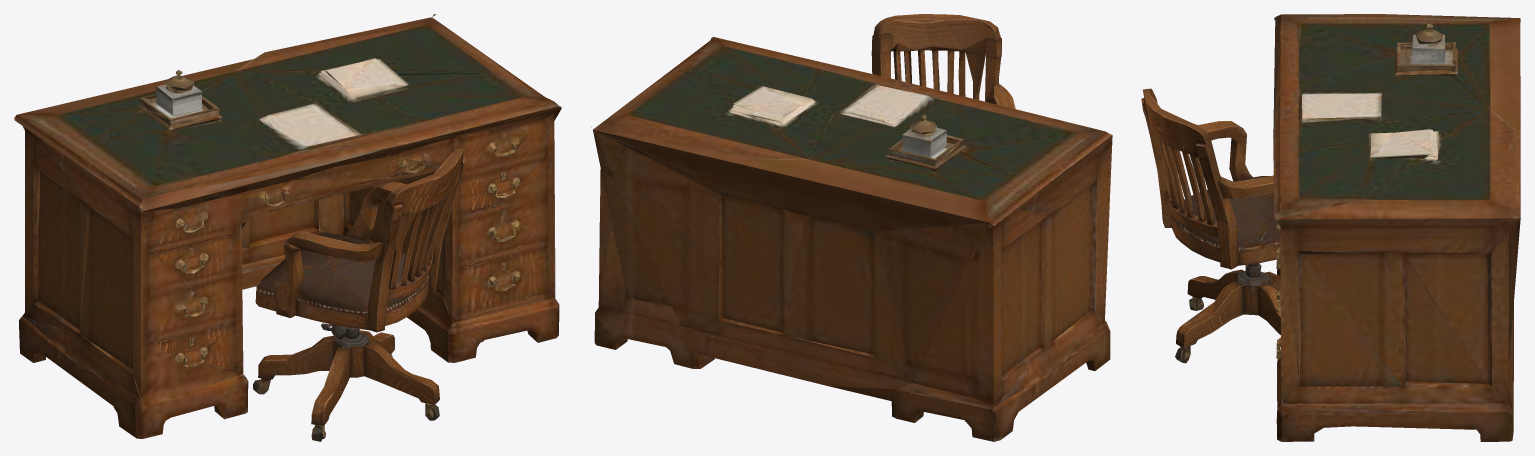
File: desk.glb
3 renders of one model, left to right at view 1: azimuth 30°, elevation 25°; view 2: azimuth 150°, elevation 25°; view 3: azimuth 270°, elevation 25°, orthographic. The views are drawn at different scales.
Visible parts, largest first — view 1: Mesh_0; view 2: Mesh_0; view 3: Mesh_0.
Boxes of the visible parts, x1,y1,x2,y2 form: Mesh_0: [14, 14, 561, 441]; Mesh_0: [591, 14, 1112, 441]; Mesh_0: [1141, 14, 1520, 441].
Bounding box in the file's own units: 1.89 × 1.22 × 1.51.
Materials: 1 (1 with a texture image).
